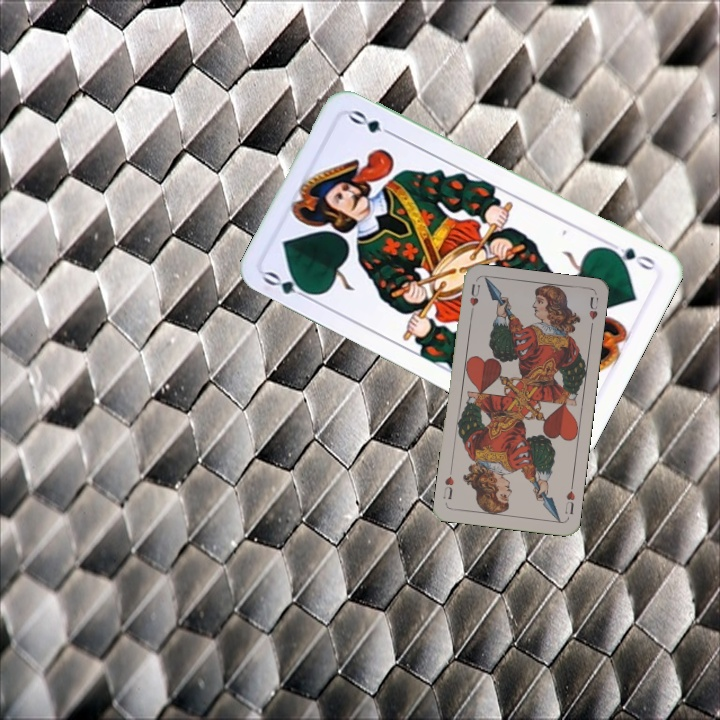GO: (259, 267, 317, 304), (602, 237, 658, 273)
HU: (465, 280, 483, 318), (561, 480, 578, 517)
